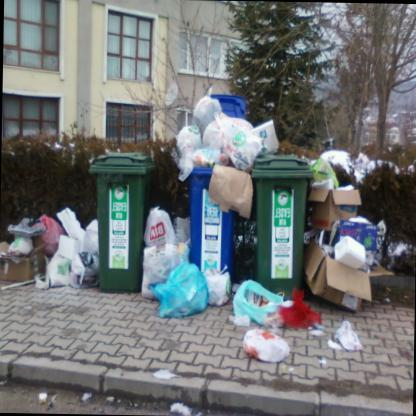Garbage: (302, 217, 386, 313), (0, 206, 76, 304), (0, 219, 96, 289), (172, 112, 278, 170), (146, 264, 236, 324), (305, 180, 364, 252), (142, 213, 184, 308), (228, 292, 284, 328), (236, 332, 288, 362), (277, 292, 318, 328)
